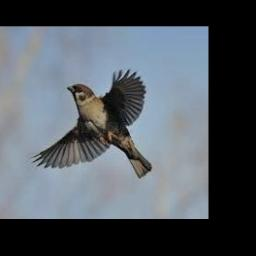Sparrow: (30, 68, 151, 178)
